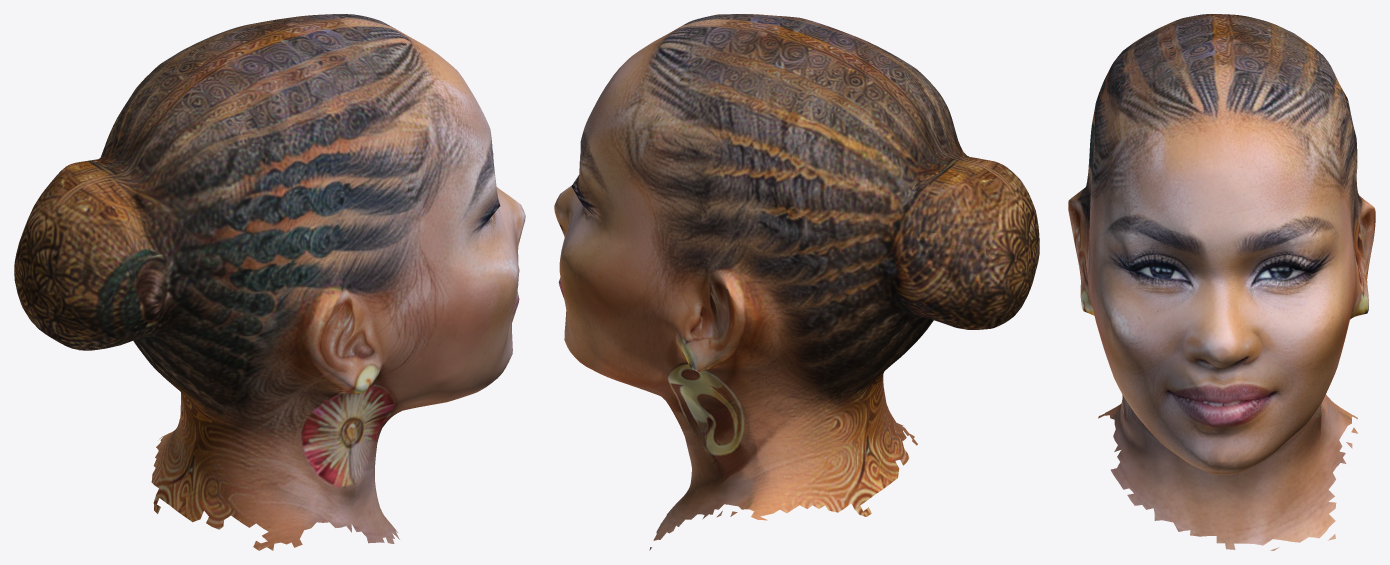
The model's file is Trish.glb.
3 views of the same model, side by side, from view 1: azimuth 30°, elevation 25°; view 2: azimuth 150°, elevation 25°; view 3: azimuth 270°, elevation 25° (orthographic). The views are drawn at different scales.
Parts seen in each view (by area): view 1: head; view 2: head; view 3: head.
Boxes of the visible parts, x1,y1,x2,y2 form: head: (14, 14, 525, 550); head: (554, 14, 1039, 550); head: (1068, 14, 1375, 550).
Bounding box in the file's own units: 0.2901 × 0.2925 × 0.1728.
Materials: 2 (1 with a texture image).
